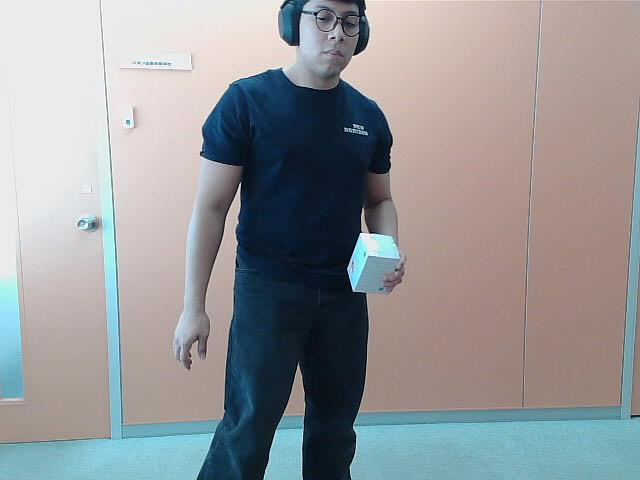Blind_box: (346, 232, 404, 297)
